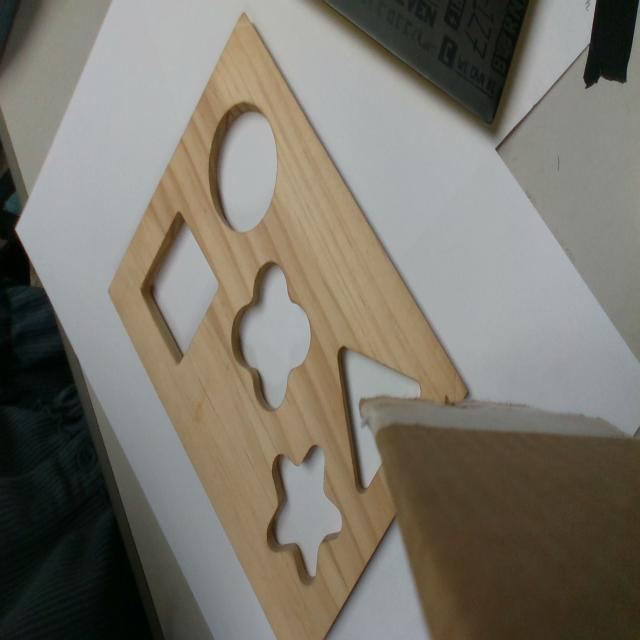circle: (209, 102, 277, 232)
flower: (229, 261, 312, 405)
square: (139, 210, 221, 364)
star: (267, 446, 344, 582)
triangle: (333, 343, 421, 495)
